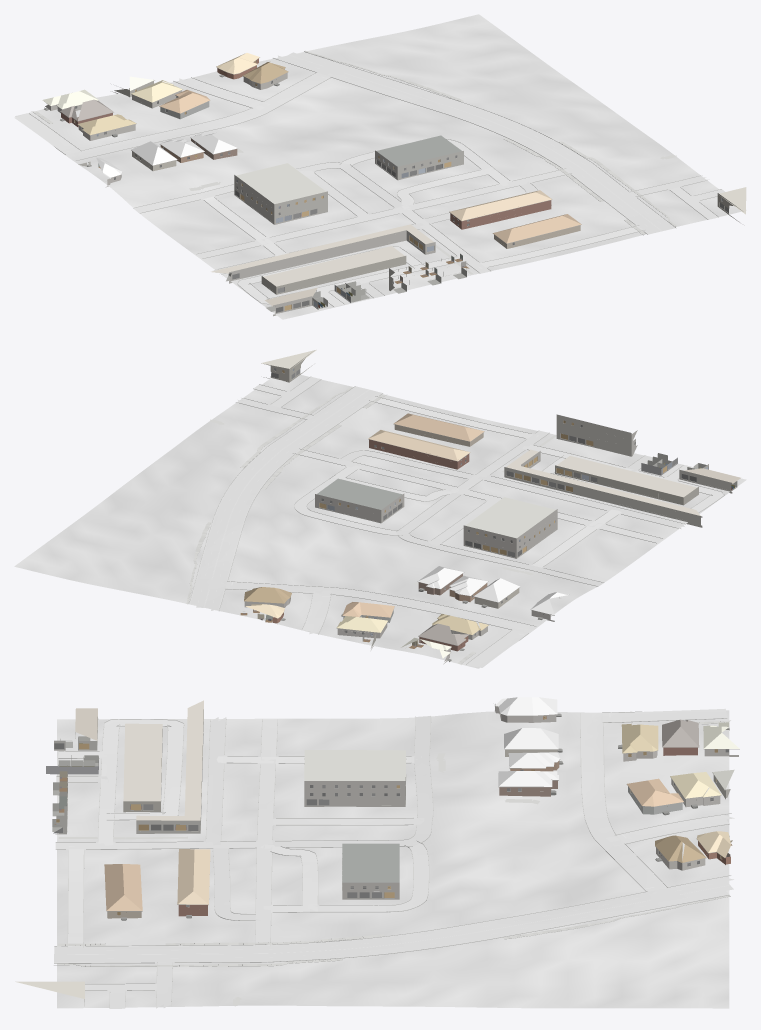
3 renders of one model, top to bottom at view 1: azimuth 30°, elevation 25°; view 2: azimuth 150°, elevation 25°; view 3: azimuth 270°, elevation 25°, orthographic. The views are drawn at different scales.
Parts seen in each view (by area): view 1: ground, concrete, roof, asphalt, roof_flat, wall_com, curb, wall, walk, detail, room, wall_stone (+3 smaller); view 2: ground, concrete, wall_com, roof, asphalt, roof_flat, curb, wall, walk, detail, glass, glass_lit (+2 smaller); view 3: ground, concrete, roof, asphalt, roof_flat, curb, wall_com, walk, wall, wall_stone, detail, room (+3 smaller).
Boxes of the visible parts, box(x1,y1,x2,y2) form: ground: box(15, 14, 746, 319); concrete: box(14, 72, 724, 306); roof: box(42, 53, 581, 243); asphalt: box(278, 52, 675, 234); roof_flat: box(211, 135, 746, 306); wall_com: box(229, 150, 741, 316); curb: box(29, 51, 721, 306); wall: box(61, 58, 580, 248); walk: box(31, 50, 676, 274); detail: box(44, 57, 728, 312); room: box(77, 88, 469, 311); wall_stone: box(44, 73, 287, 187); ground: box(14, 374, 746, 668); concrete: box(220, 376, 723, 667); wall_com: box(263, 350, 732, 558); roof: box(244, 413, 568, 658); asphalt: box(189, 386, 382, 610); roof_flat: box(261, 349, 740, 538); curb: box(189, 376, 724, 664); wall: box(272, 424, 487, 651); walk: box(186, 386, 556, 664); detail: box(243, 368, 708, 661); glass: box(271, 368, 696, 635); glass_lit: box(282, 368, 707, 640); ground: box(57, 710, 729, 1008); concrete: box(55, 708, 734, 1008); roof: box(104, 697, 739, 910); asphalt: box(54, 877, 733, 962); roof_flat: box(15, 700, 405, 998); curb: box(54, 711, 731, 1008); wall_com: box(46, 709, 405, 899); walk: box(57, 720, 730, 1006); wall: box(107, 747, 730, 918); wall_stone: box(495, 704, 738, 870); detail: box(54, 706, 739, 1006); room: box(52, 716, 732, 915).
Size of the model in its own units: 263 by 14.49 by 272.
